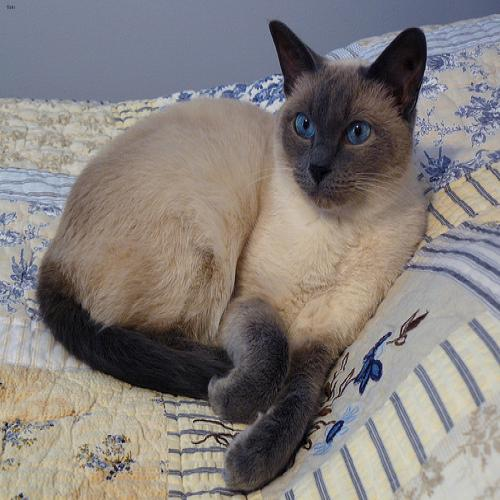siamese: (260, 1, 439, 222)
